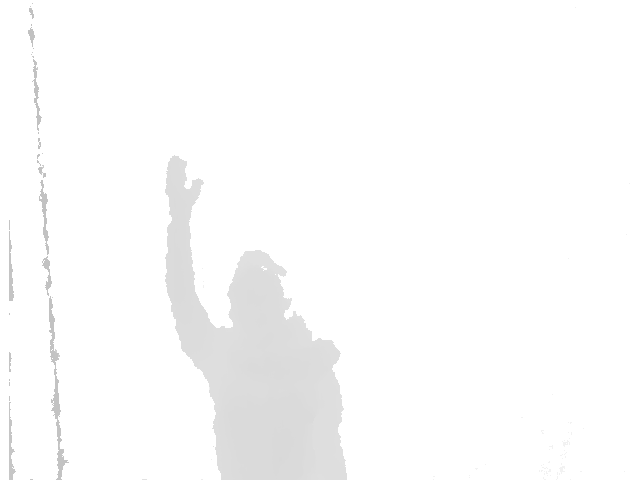hand: (160, 153, 204, 211)
head: (224, 248, 290, 325)
person: (162, 154, 355, 480)
